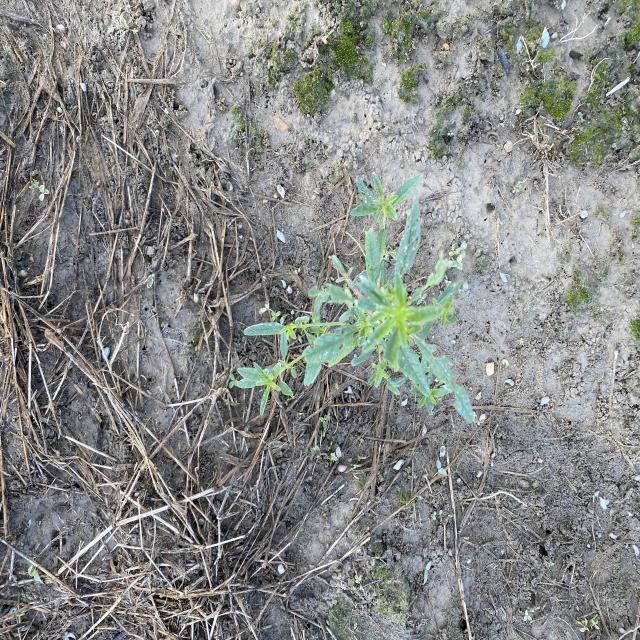Waterhemp: (233, 169, 477, 427)
